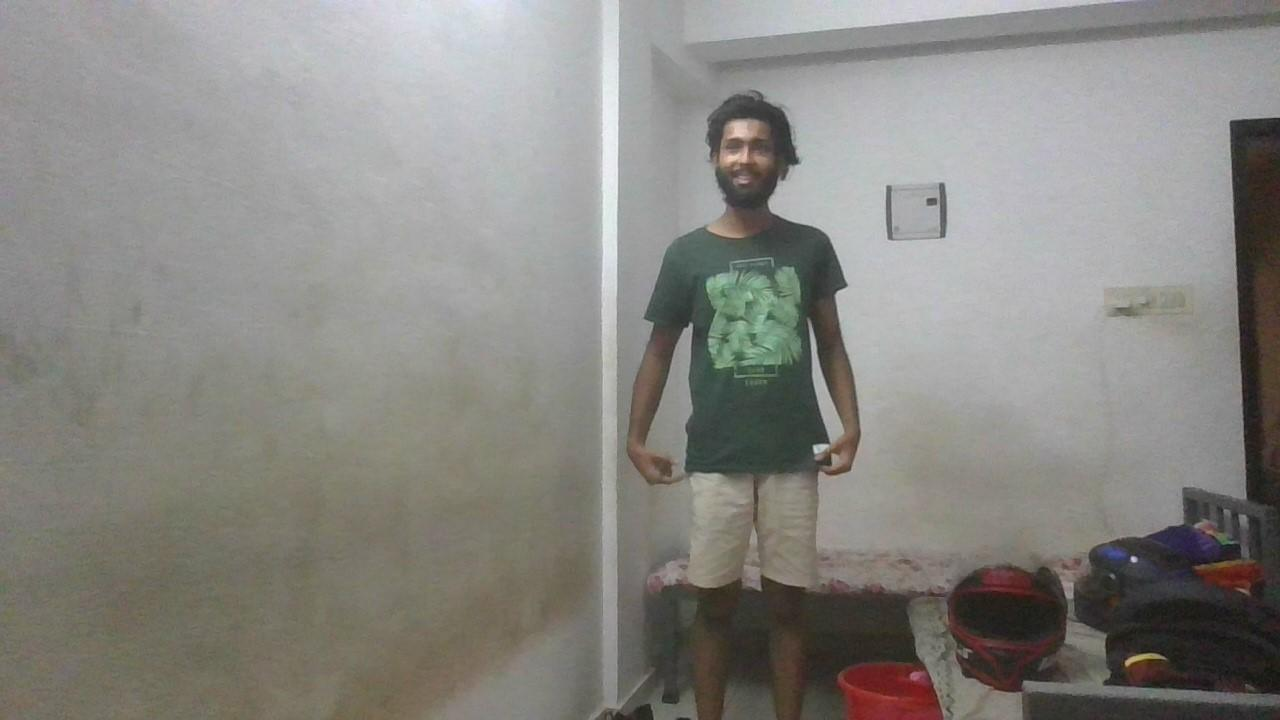nohelmet: (705, 91, 795, 215)
